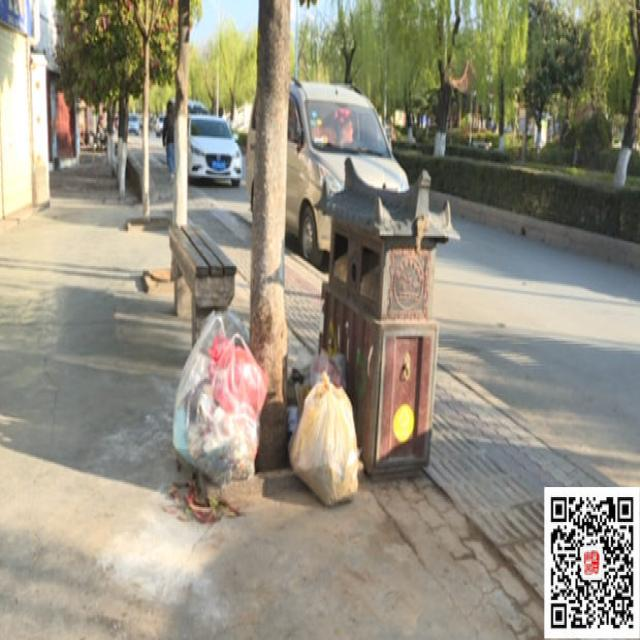garbage: (170, 304, 266, 520), (286, 349, 363, 505)
garbage_bin: (317, 156, 458, 479)
